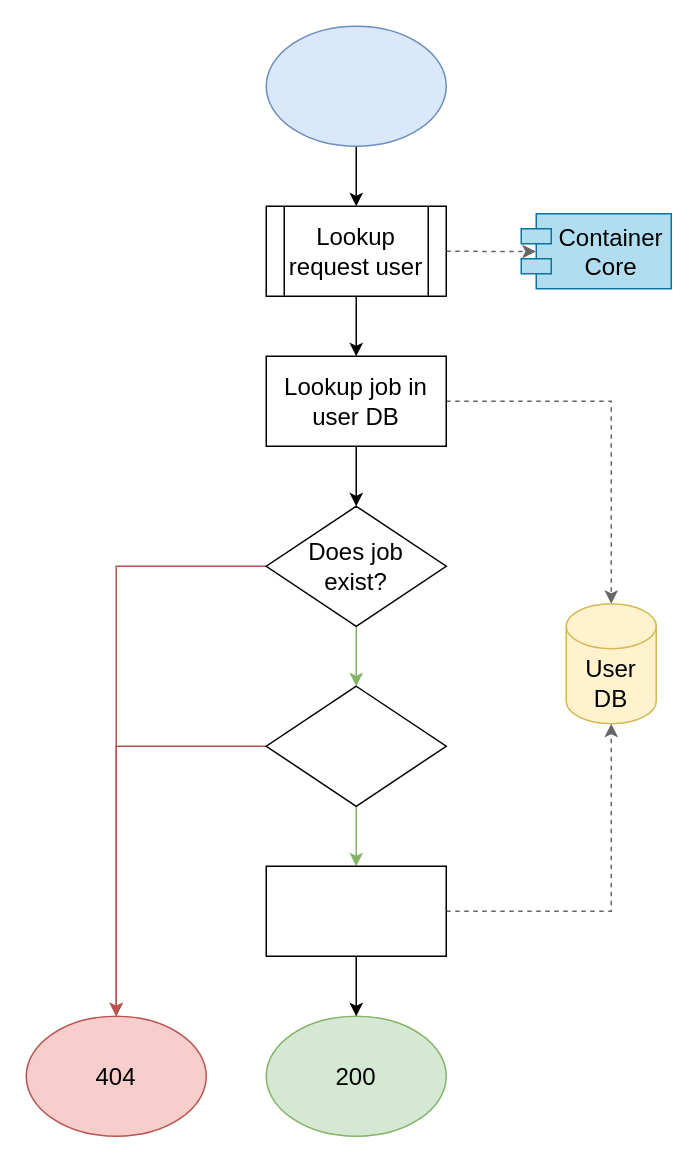
The diagram is 698 pixels wide and 1163 high, and some of its shapes have lost their labels. Here are the shapes that lost their labels. From the top down, the centre of each, then its label:
At (x=355, y=85): "Start".
At (x=355, y=745): "Is user linked to job?".
At (x=355, y=910): "Delete link between job and user".
